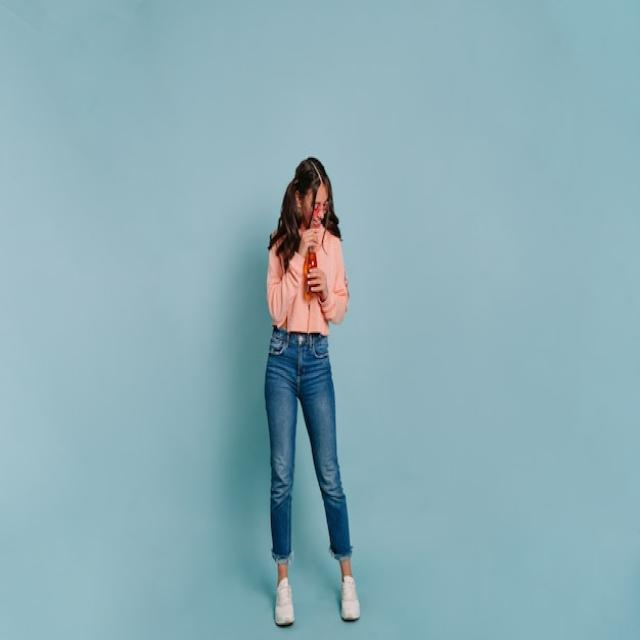Person: (265, 158, 360, 630)
